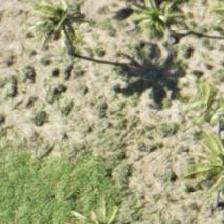coconut_tree: (107, 0, 197, 59), (31, 0, 121, 57), (173, 122, 223, 212)
